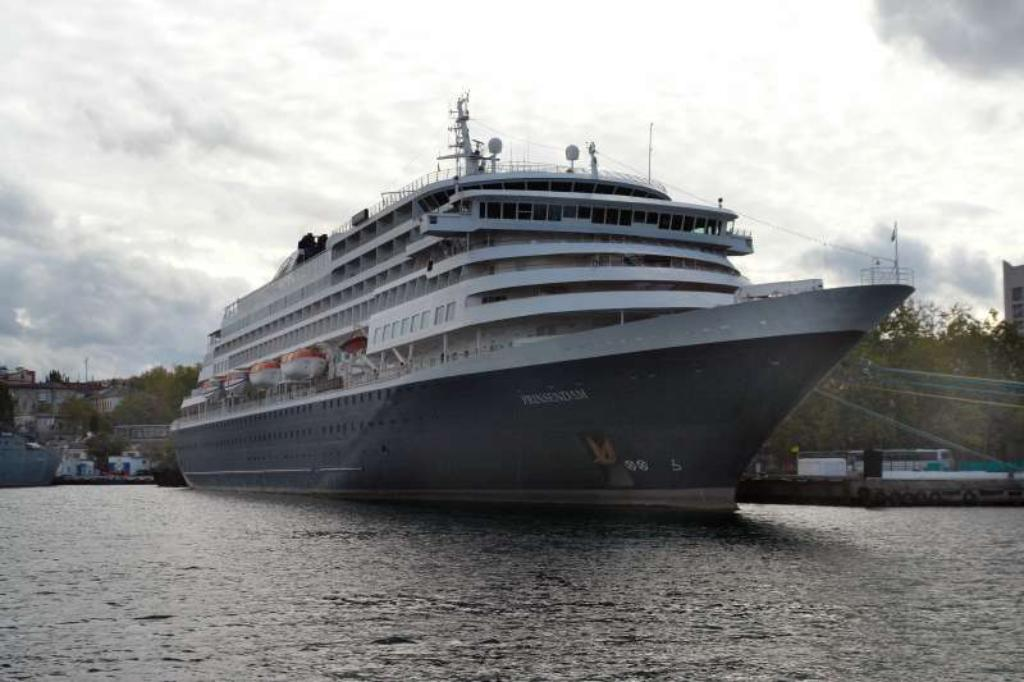PassengerShip: (170, 119, 936, 501)
